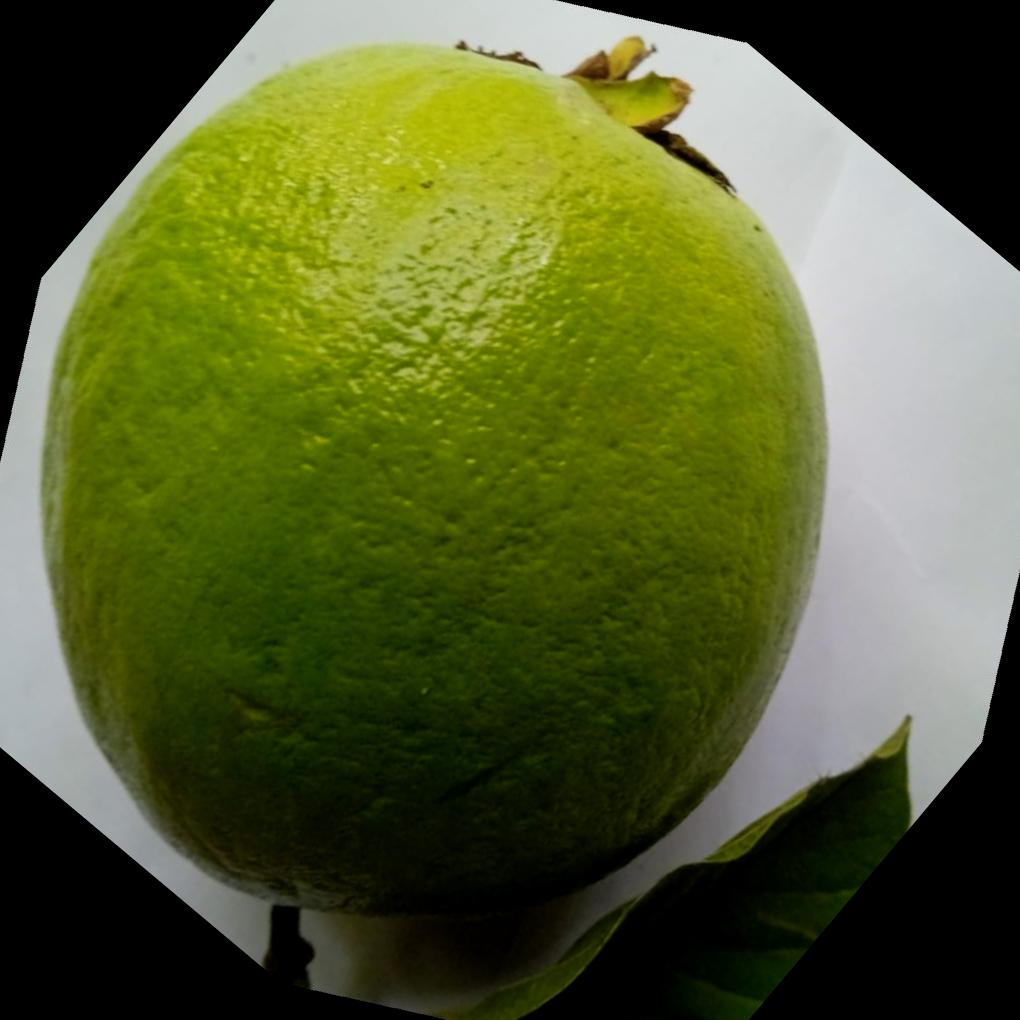FreshGuava: (33, 36, 829, 919)
